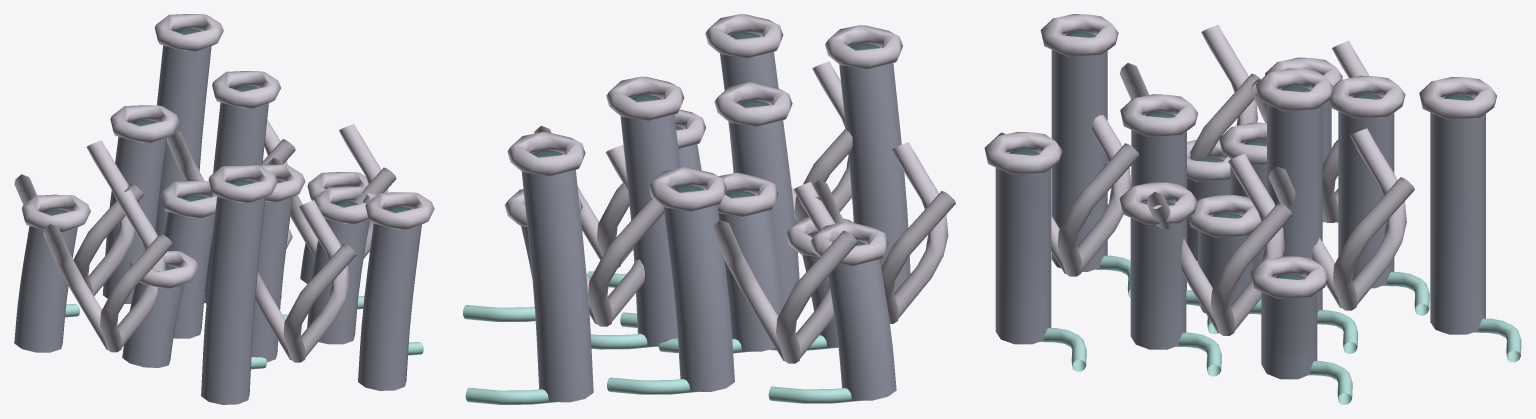
File: bio_thermal_colony_14_far.glb
3 views of the same model, side by side, from view 1: azimuth 30°, elevation 25°; view 2: azimuth 150°, elevation 25°; view 3: azimuth 270°, elevation 25° (orthographic). The views are drawn at different scales.
Visible parts, largest first — view 1: Chimney biofilm.007, Chimney biofilm.010, Spiral filament.012, Spiral filament.006, Chimney biofilm.009, Chimney biofilm.011, Spiral filament.003, Chimney biofilm.006, Chimney biofilm.001, Chimney biofilm.002, Chimney biofilm.005, Chimney biofilm.004 (+15 smaller); view 2: Chimney biofilm.011, Chimney biofilm.006, Chimney biofilm.007, Chimney biofilm.003, Spiral filament.003, Chimney biofilm.009, Spiral filament.012, Chimney biofilm.002, Chimney biofilm.001, Spiral filament.009, Spiral filament.006, Open vent rim.003 (+19 smaller); view 3: Chimney biofilm.011, Chimney biofilm.010, Chimney biofilm.007, Spiral filament.009, Spiral filament, Chimney biofilm.005, Chimney biofilm.003, Spiral filament.006, Chimney biofilm.006, Chimney biofilm.008, Spiral filament.012, Chimney biofilm.002 (+24 smaller).
Part boxes in pixels (<box>): Chimney biofilm.007: <box>201,197,265,404</box>; Chimney biofilm.010: <box>358,223,421,390</box>; Spiral filament.012: <box>43,190,172,352</box>; Spiral filament.006: <box>255,200,356,362</box>; Chimney biofilm.009: <box>14,226,77,352</box>; Chimney biofilm.011: <box>155,45,211,235</box>; Spiral filament.003: <box>14,140,143,296</box>; Chimney biofilm.006: <box>103,136,166,303</box>; Chimney biofilm.001: <box>164,212,215,338</box>; Chimney biofilm.002: <box>251,197,292,362</box>; Chimney biofilm.005: <box>307,218,369,344</box>; Chimney biofilm.004: <box>122,282,184,367</box>; Chimney biofilm.011: <box>521,153,593,402</box>; Chimney biofilm.006: <box>663,188,734,391</box>; Chimney biofilm.007: <box>839,63,910,293</box>; Chimney biofilm.003: <box>620,98,680,346</box>; Spiral filament.003: <box>712,182,857,363</box>; Chimney biofilm.009: <box>828,259,896,400</box>; Spiral filament.012: <box>812,142,955,323</box>; Chimney biofilm.002: <box>729,104,799,304</box>; Chimney biofilm.001: <box>718,210,783,351</box>; Spiral filament.009: <box>586,145,663,326</box>; Spiral filament.006: <box>791,61,852,222</box>; Open vent rim.003: <box>606,76,684,120</box>; Chimney biofilm.011: <box>1430,98,1485,334</box>; Chimney biofilm.010: <box>995,153,1051,344</box>; Chimney biofilm.007: <box>1051,35,1107,271</box>; Spiral filament.009: <box>1268,128,1414,310</box>; Spiral filament: <box>1146,154,1292,335</box>; Chimney biofilm.005: <box>1130,203,1186,349</box>; Chimney biofilm.003: <box>1267,90,1322,313</box>; Spiral filament.006: <box>997,114,1139,276</box>; Chimney biofilm.006: <box>1338,97,1394,288</box>; Chimney biofilm.008: <box>1261,277,1317,379</box>; Spiral filament.012: <box>1120,25,1260,160</box>; Chimney biofilm.002: <box>1131,115,1186,290</box>.
Bounding box in the file's own units: 1.75 × 0.9903 × 1.92.
